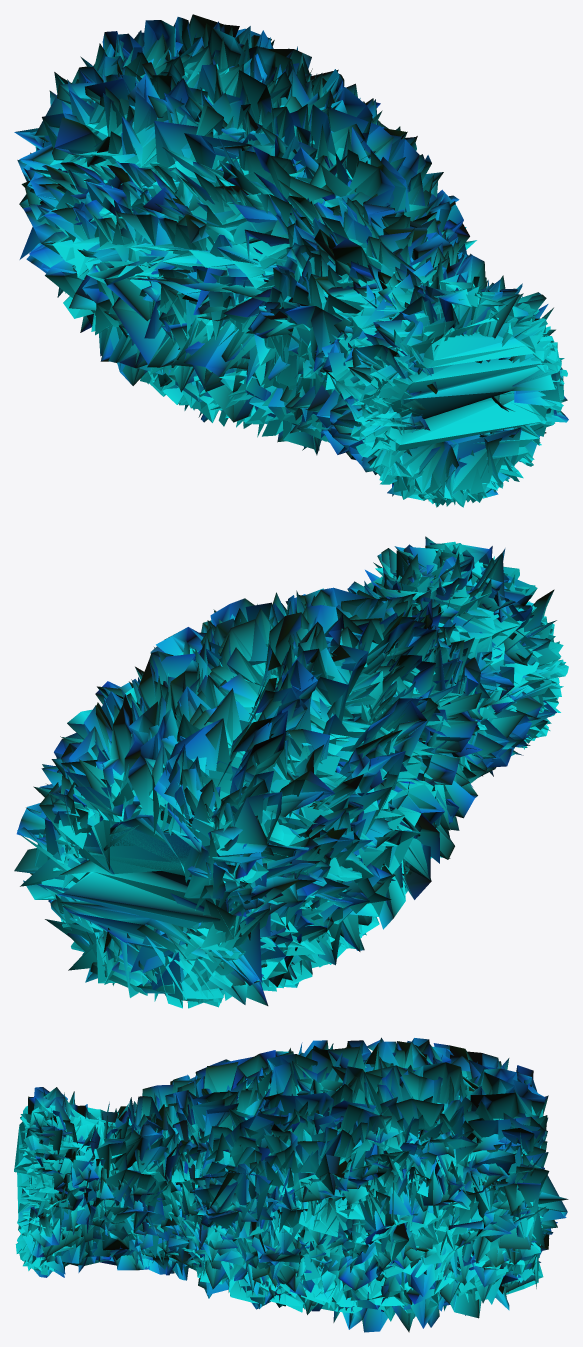
The model's file is lamp_shade_10_final300.obj.
3 views of the same model, one above another, from view 1: azimuth 30°, elevation 25°; view 2: azimuth 150°, elevation 25°; view 3: azimuth 270°, elevation 25° (orthographic). The views are drawn at different scales.
Size of the model in its own units: 1.02 by 1.03 by 1.95.
